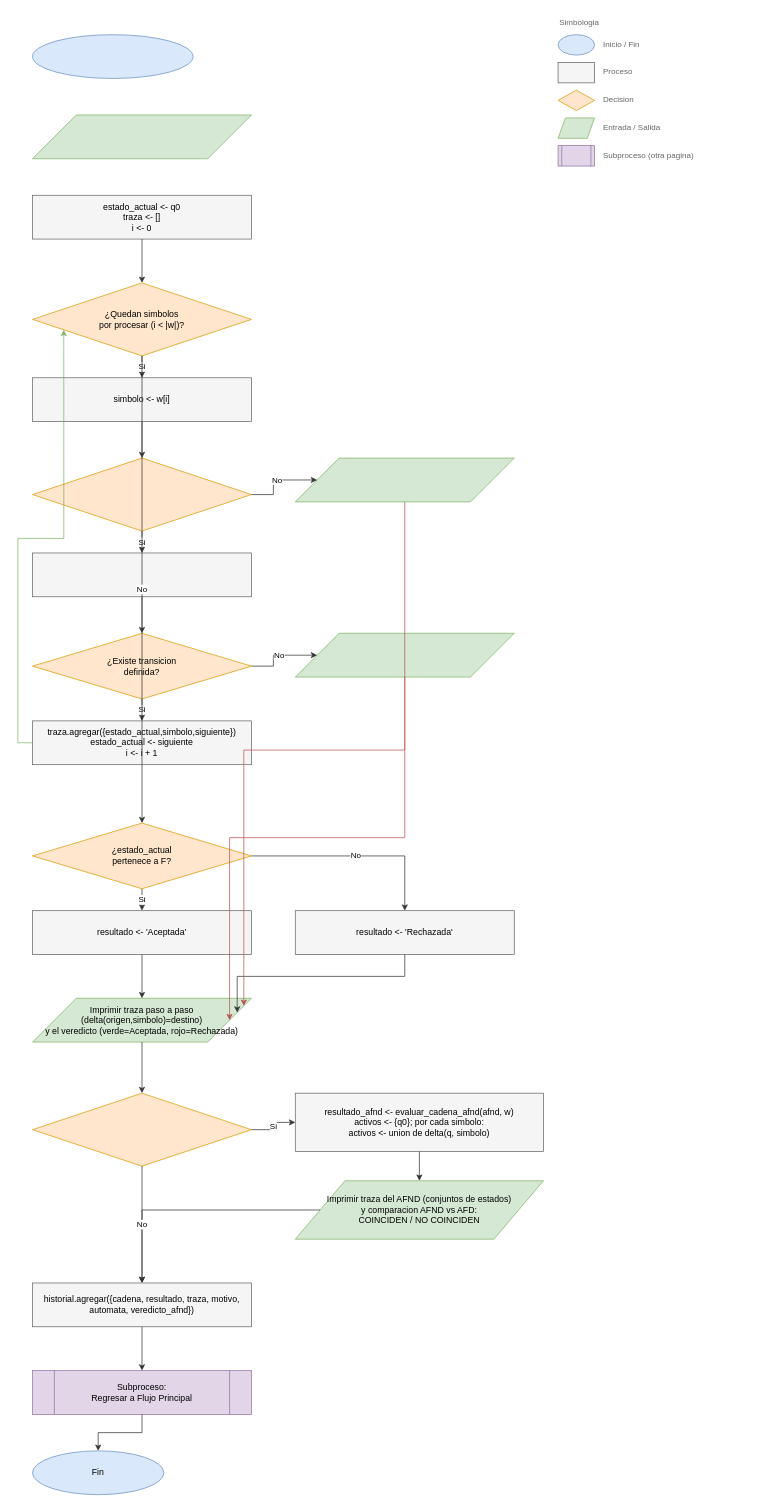
The diagram is 775 pixels wide and 1507 high, and some of its shapes have lost their labels. The box of each missing label's shape, as (x1, y1, x2, y2) in pixels:
Inicio: Evaluar una cadena: (32, 34, 193, 78)
Pedir cadena w (puede ser vacia = lambda): (32, 114, 251, 159)
resultado <- 'Rechazada' motivo <- 'simbolo invalido': (295, 457, 514, 502)
resultado <- 'Rechazada' motivo <- 'transicion no definida': (295, 633, 514, 677)
siguiente <- delta(estado_actual, simbolo): (32, 552, 251, 597)
¿El AFD proviene de un AFND? (automata_cargado es AFND): (32, 1092, 251, 1166)
¿simbolo pertenece a Sigma?: (32, 457, 251, 531)
